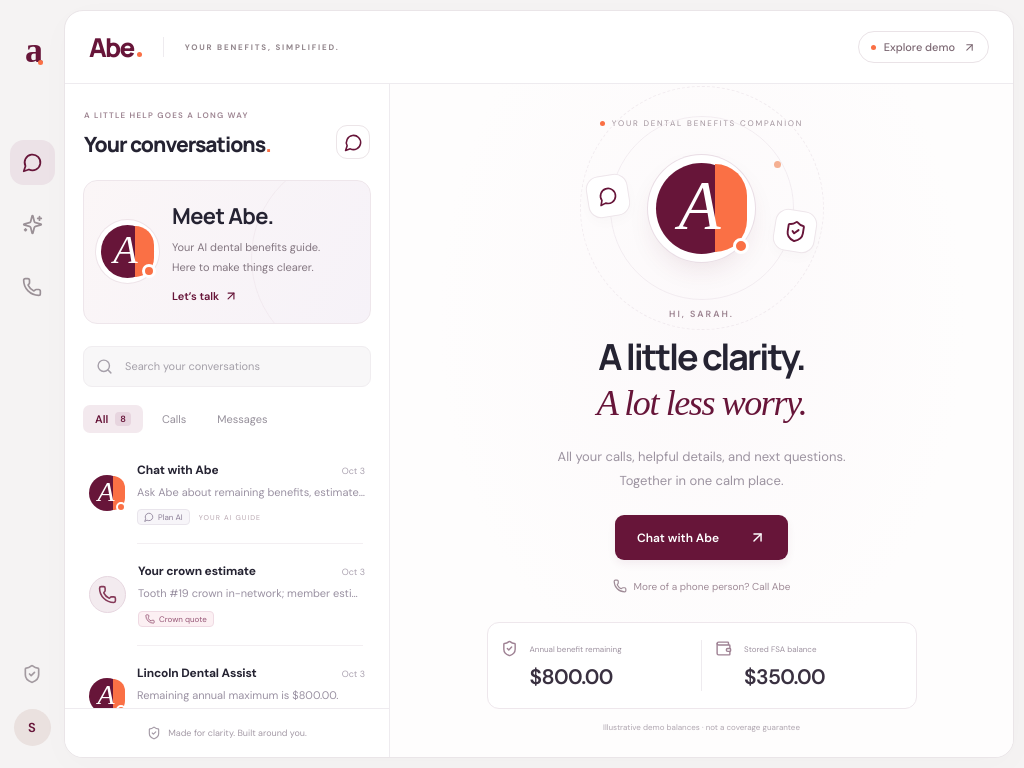
Abe companion › requires a connection to send and never fakes a reply in preview
Expected: the heading "Your crown estimate" is shown, [138,563,256,579]
Click the button named "Chat with Abe" at [32, 224], box [10,202,54,247]
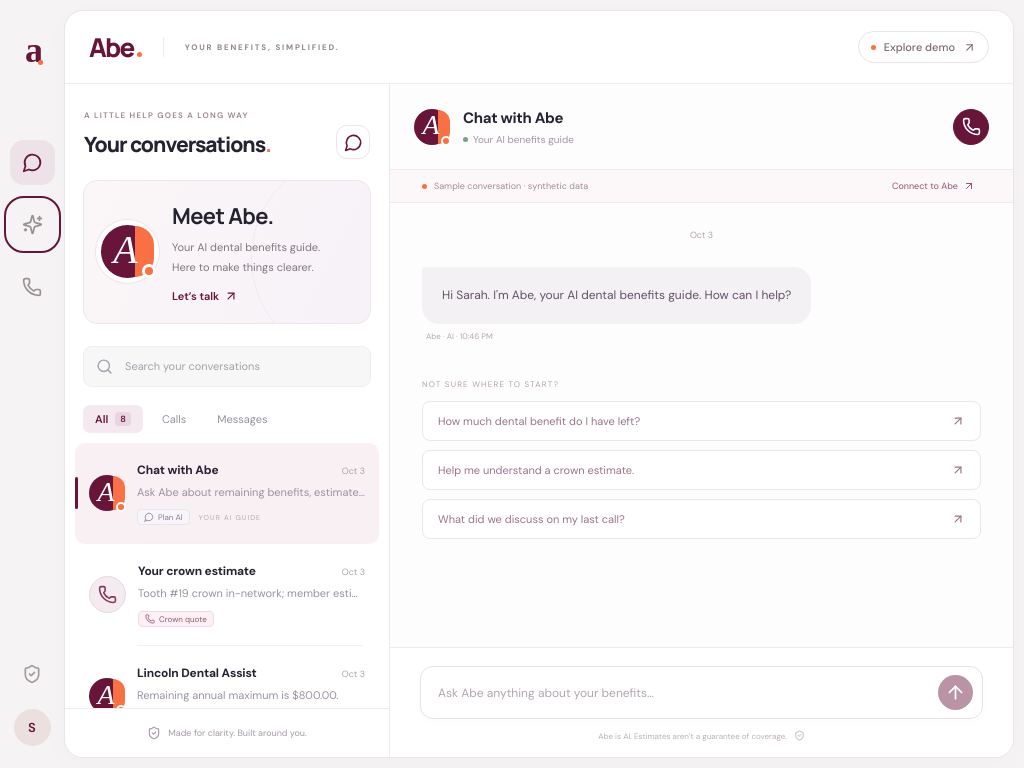
Type "How much is left?" into the text box named "Message Abe" at [682, 692], box [438,676,926,708]
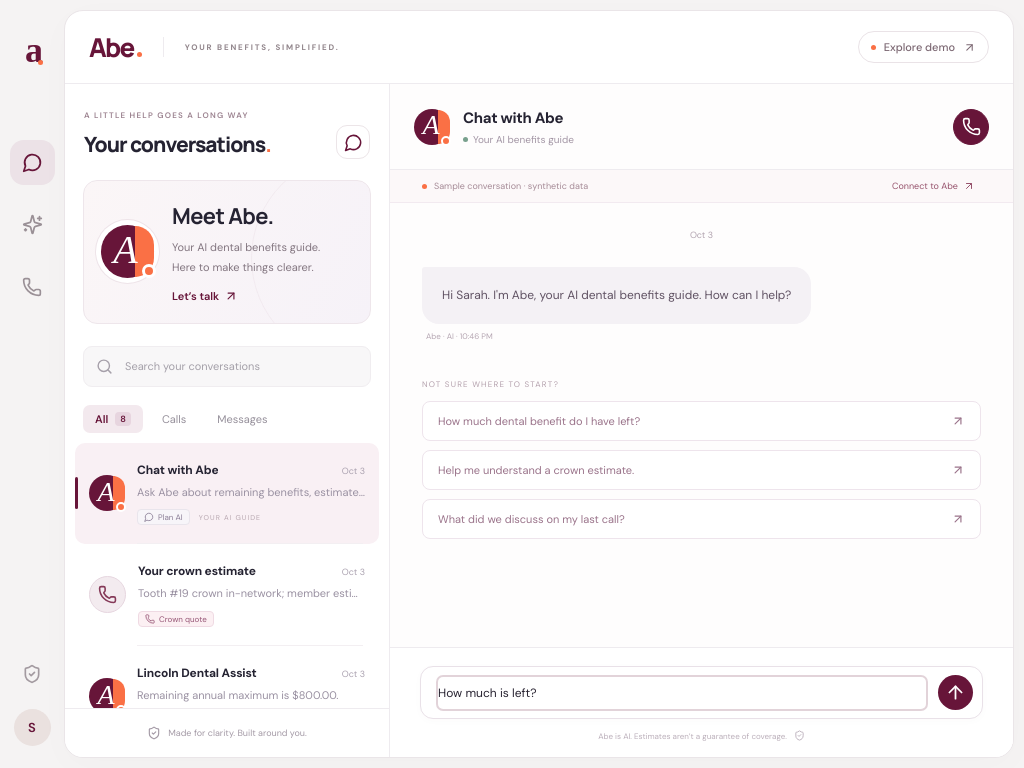
Click the button named "Send message" at [956, 692], box [938,675,973,710]
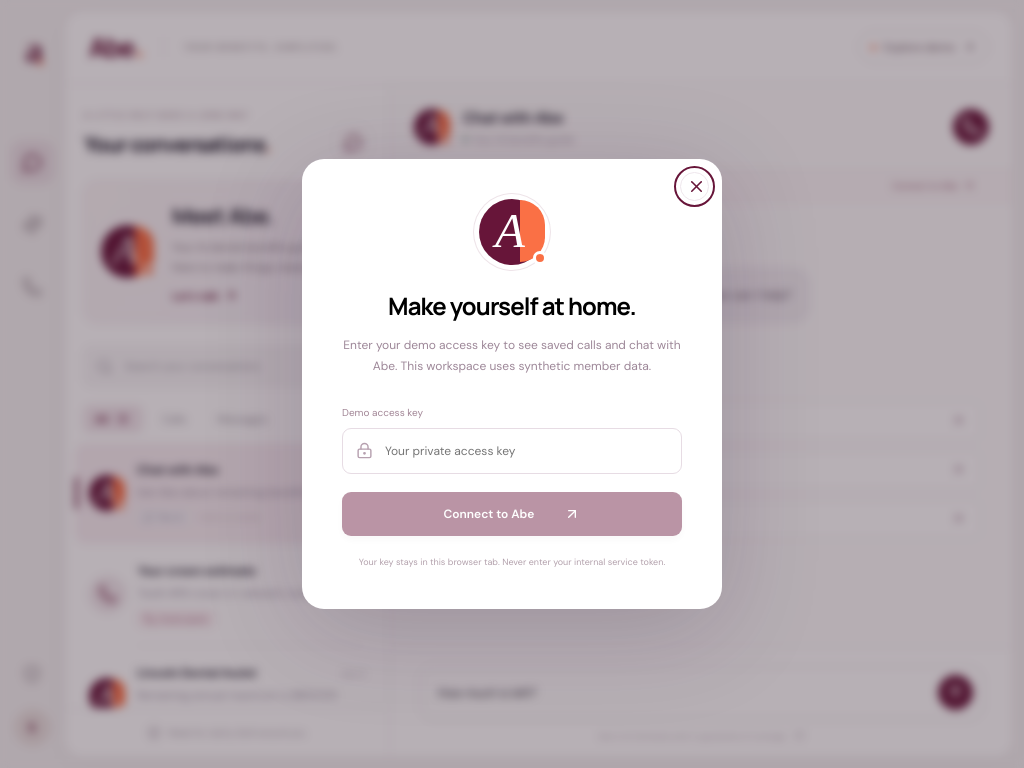
Result: the dialog "Make yourself at home." is shown
